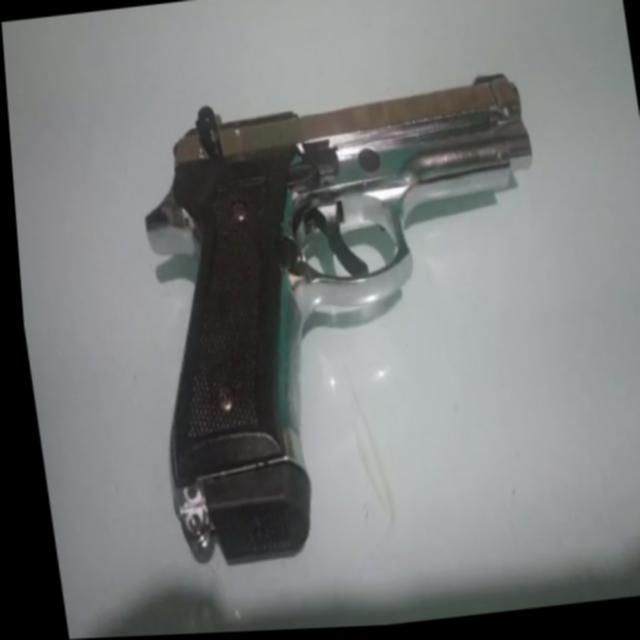weapon: (112, 69, 580, 574)
